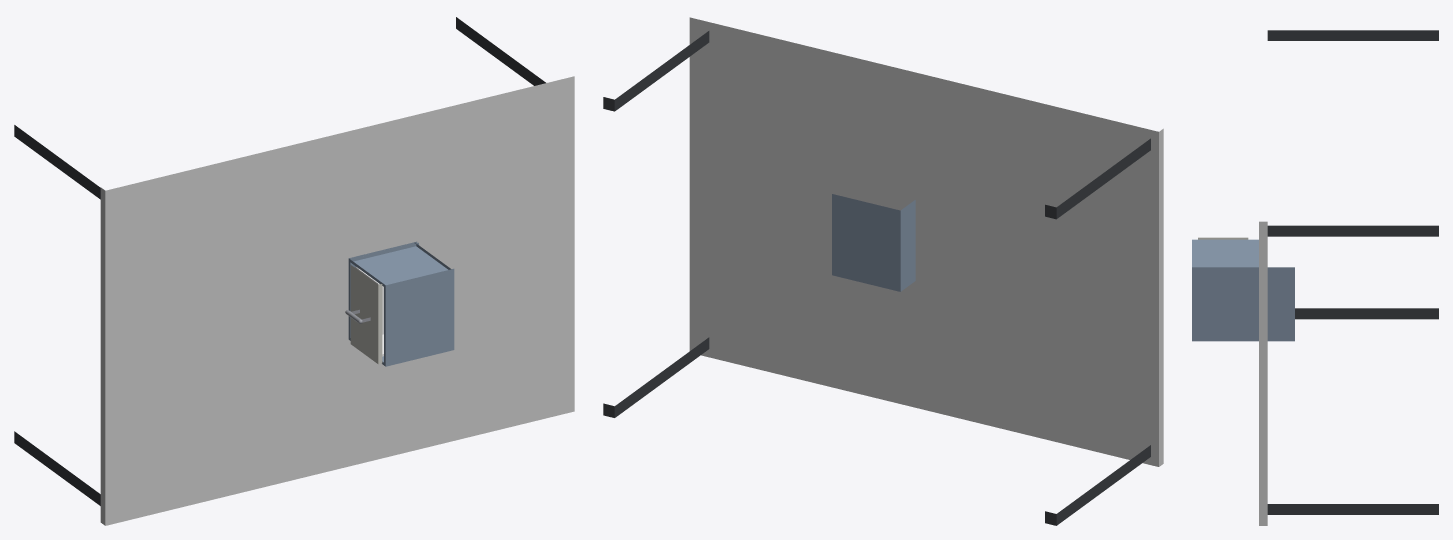
Rendered from t2_079d91fff1.glb.
3 views of the same model, side by side, from view 1: azimuth 30°, elevation 25°; view 2: azimuth 150°, elevation 25°; view 3: azimuth 270°, elevation 25° (orthographic). The views are drawn at different scales.
Visible parts, largest first — view 1: s0, s1, s2; view 2: s0, s1; view 3: s0, s1.
Part boxes in pixels (x1,y1,x2,y2): s0: [14, 17, 574, 525]; s1: [348, 241, 454, 366]; s2: [345, 265, 383, 364]; s0: [603, 17, 1163, 525]; s1: [832, 194, 915, 291]; s0: [1259, 30, 1438, 525]; s1: [1192, 239, 1294, 341].
Bounding box in the file's own units: 2.05 × 1.4 × 1.03.
